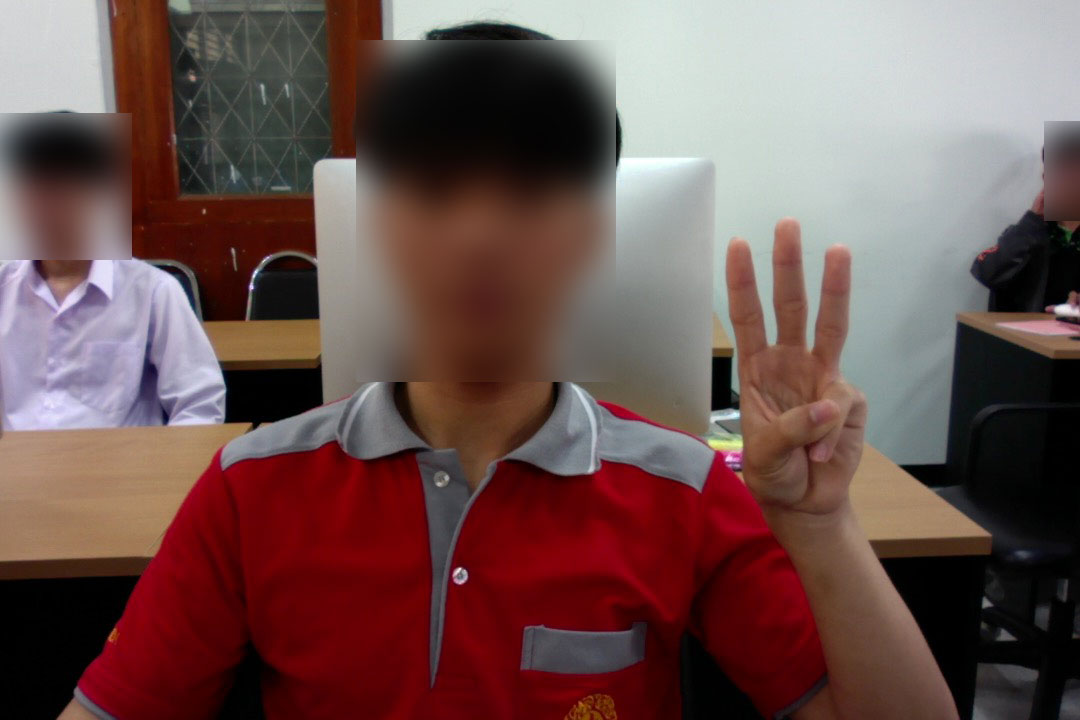wor: (722, 208, 874, 525)
